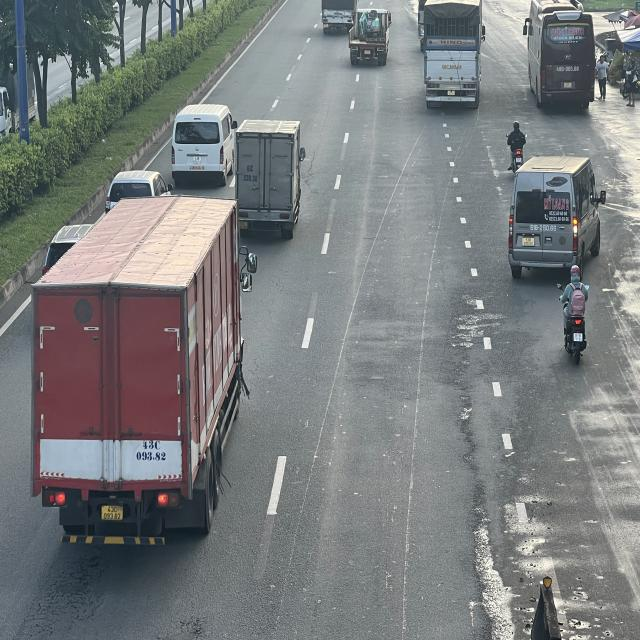coach: (526, 0, 597, 108)
truck: (30, 200, 254, 552), (235, 119, 308, 236), (418, 0, 482, 106), (347, 4, 391, 64), (320, 0, 355, 34)
van: (508, 157, 604, 277), (173, 102, 236, 182)
